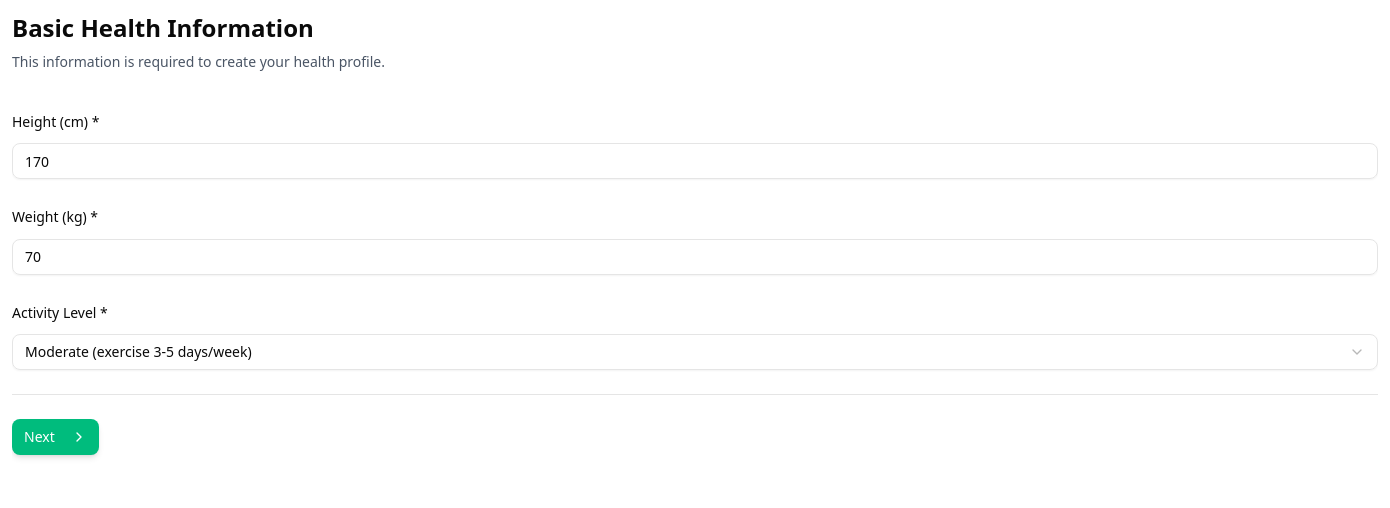
Step1ProfileForm › validates minimum height
The width and height of the screenshot is (1390, 508).
Type "30" into the number field with placeholder "170" below "Height (cm) *". click: (695, 161)
box: [12,143,1378,179]
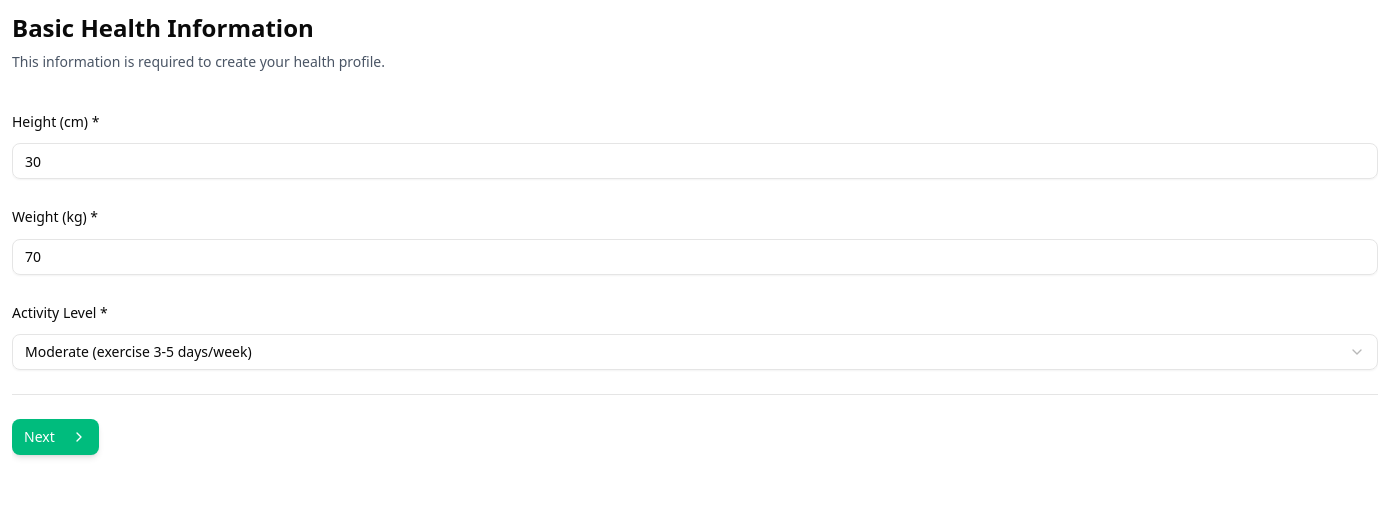
Click the button "Next". click: (55, 437)
box: [12,419,99,455]
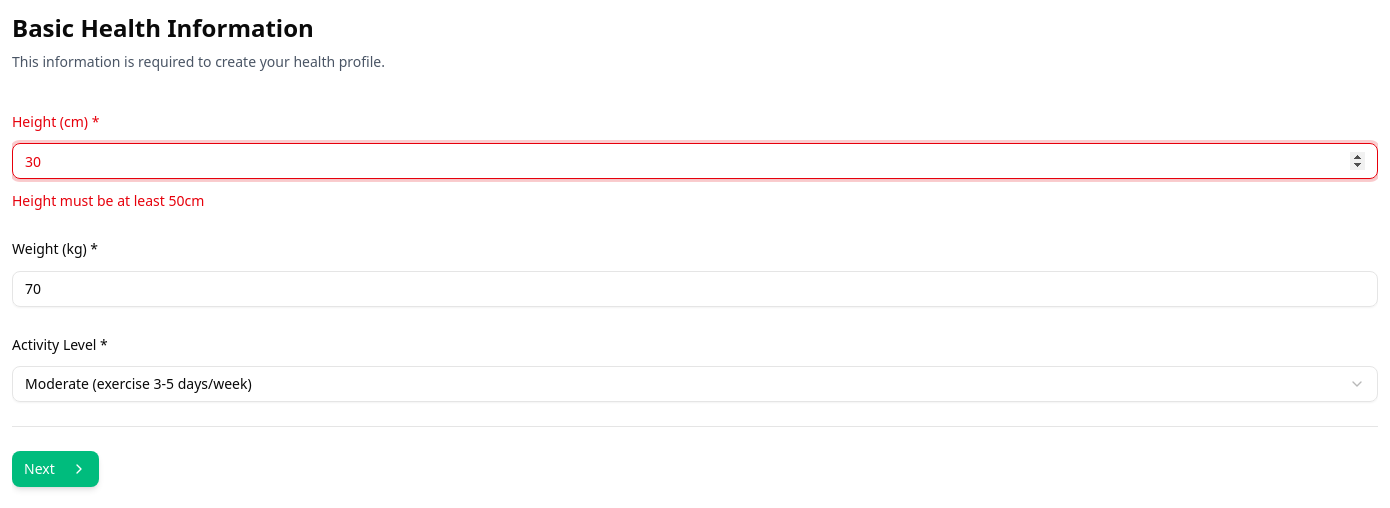
Check: the text "Height must be at least 50cm" is shown, box [12,191,204,210]
